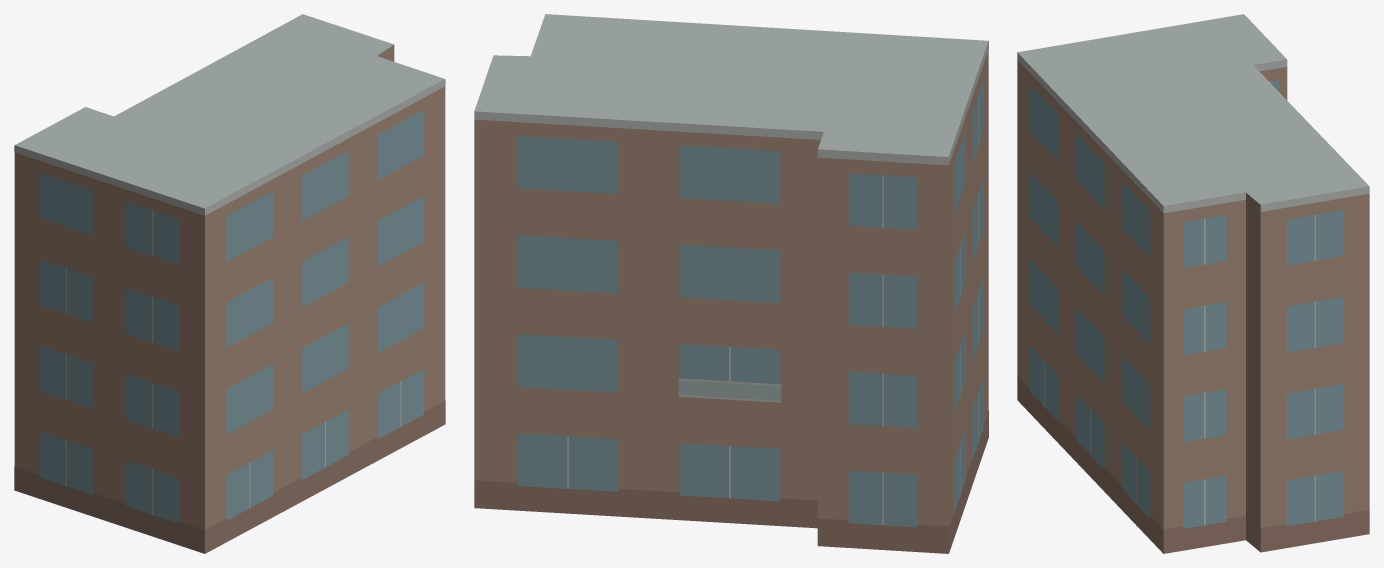
Rendered from survey-upis-32722740.glb.
3 views of the same model, side by side, from view 1: azimuth 30°, elevation 25°; view 2: azimuth 150°, elevation 25°; view 3: azimuth 270°, elevation 25° (orthographic). The views are drawn at different scales.
Visible parts, largest first — view 1: survey-upis-32722740.tmp; view 2: survey-upis-32722740.tmp; view 3: survey-upis-32722740.tmp.
Boxes of the visible parts, x1,y1,x2,y2 form: survey-upis-32722740.tmp: (14,14,445,553); survey-upis-32722740.tmp: (474,14,988,553); survey-upis-32722740.tmp: (1017,14,1369,553).
Size of the model in its own units: 13.88 by 11.7 by 10.76.
